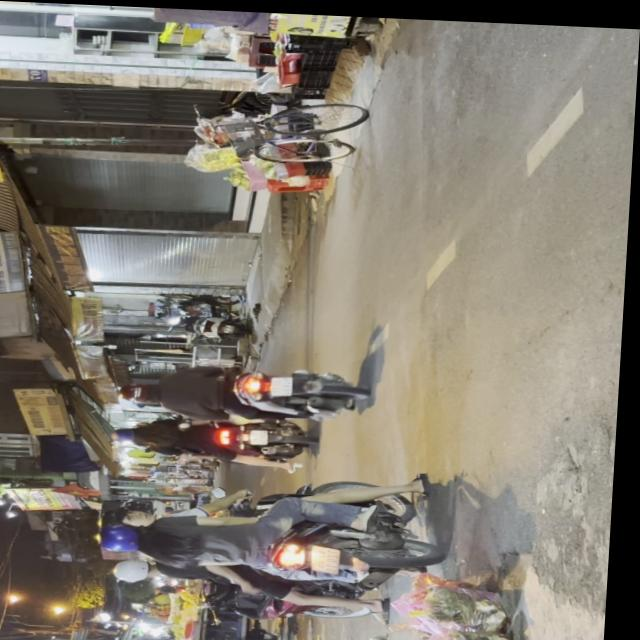helmet: (104, 519, 156, 550), (118, 555, 161, 581), (120, 378, 160, 399), (117, 422, 150, 441)
licenseplate: (100, 461, 454, 593), (119, 356, 373, 421), (114, 409, 321, 466)
nohelmet: (316, 542, 345, 569), (273, 372, 296, 392), (254, 426, 273, 441)
